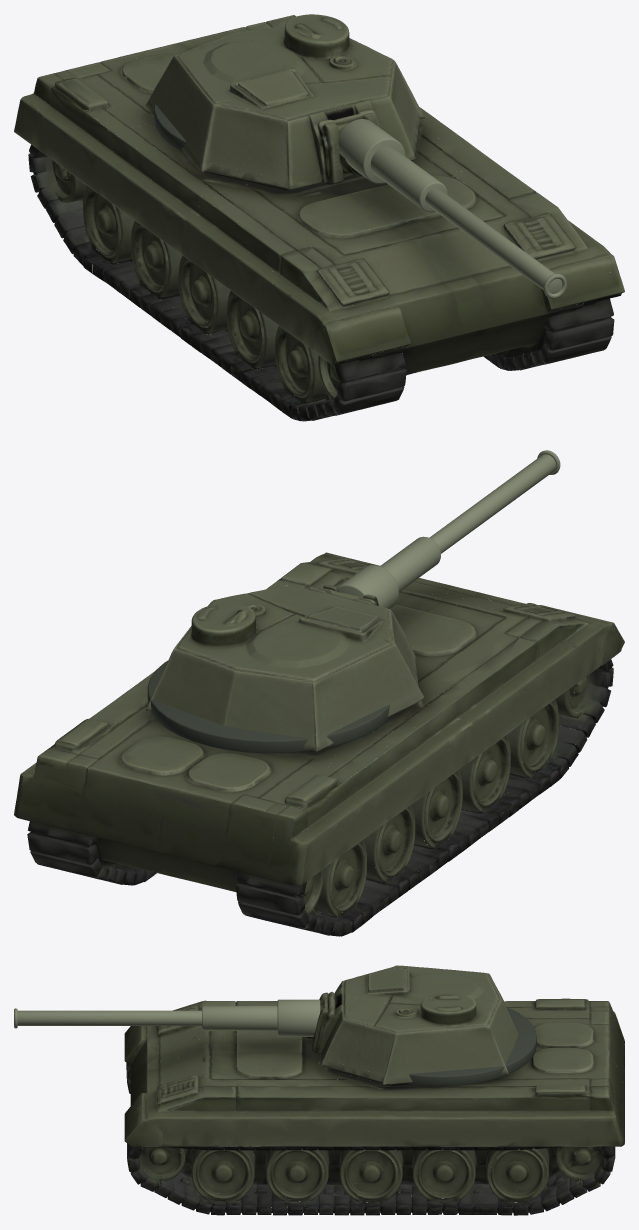
Rendered from tank.glb.
3 views of the same model, one above another, from view 1: azimuth 30°, elevation 25°; view 2: azimuth 150°, elevation 25°; view 3: azimuth 270°, elevation 25° (orthographic). The views are drawn at different scales.
Parts seen in each view (by area): view 1: tank_hull, tank_turret_armor, tank_barrel_tube, tank_barrel_sleeve, tank_mantlet, tank_turret_bearing; view 2: tank_hull, tank_turret_armor, tank_turret_bearing, tank_barrel_tube, tank_barrel_sleeve, tank_mantlet; view 3: tank_hull, tank_turret_armor, tank_barrel_tube, tank_turret_bearing, tank_barrel_sleeve, tank_mantlet.
Part boxes in pixels (x1,y1,x2,y2): tank_hull: (14, 15, 624, 421); tank_turret_armor: (149, 14, 420, 180); tank_barrel_tube: (425, 188, 562, 293); tank_barrel_sleeve: (370, 146, 447, 212); tank_mantlet: (338, 119, 405, 183); tank_turret_bearing: (154, 104, 283, 153); tank_hull: (14, 552, 624, 936); tank_turret_armor: (149, 585, 420, 743); tank_turret_bearing: (147, 660, 389, 753); tank_barrel_tube: (429, 454, 556, 553); tank_barrel_sleeve: (380, 536, 440, 591); tank_mantlet: (337, 565, 398, 608); tank_hull: (124, 998, 624, 1215); tank_turret_armor: (302, 965, 518, 1077); tank_barrel_tube: (17, 1010, 201, 1025); tank_turret_bearing: (406, 1007, 536, 1085); tank_barrel_sleeve: (202, 1006, 277, 1030); tank_mantlet: (277, 999, 320, 1036).
Bounding box in the file's own units: 3.48 × 2.74 × 8.31.
Materials: 3 (1 with a texture image).
